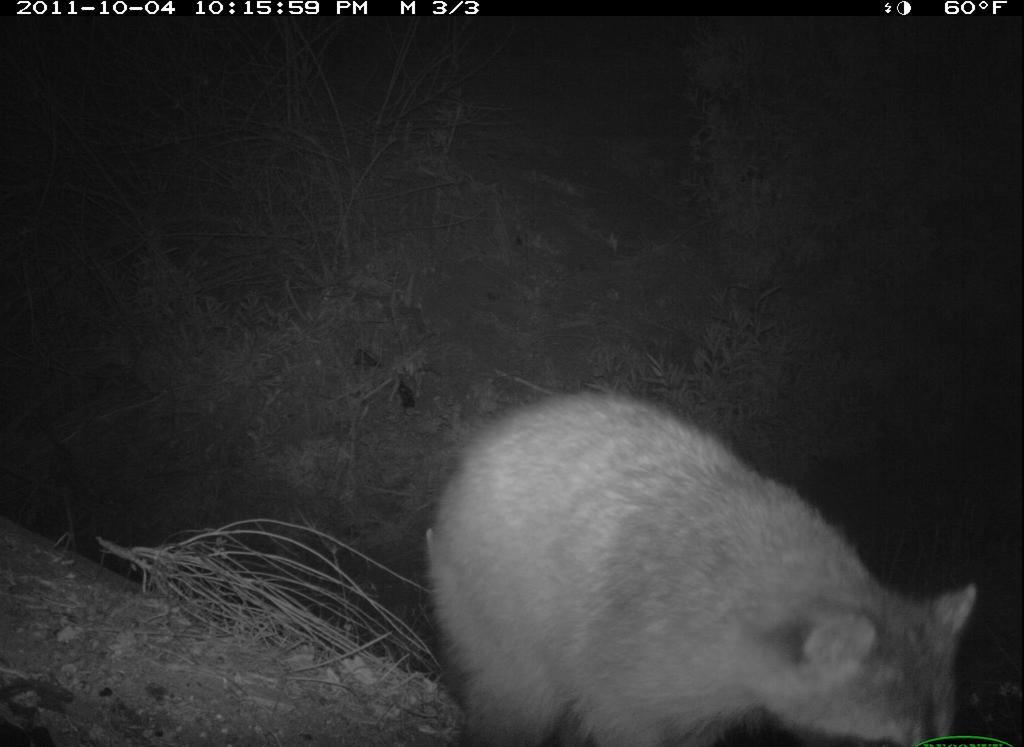raccoon: (410, 377, 981, 738)
